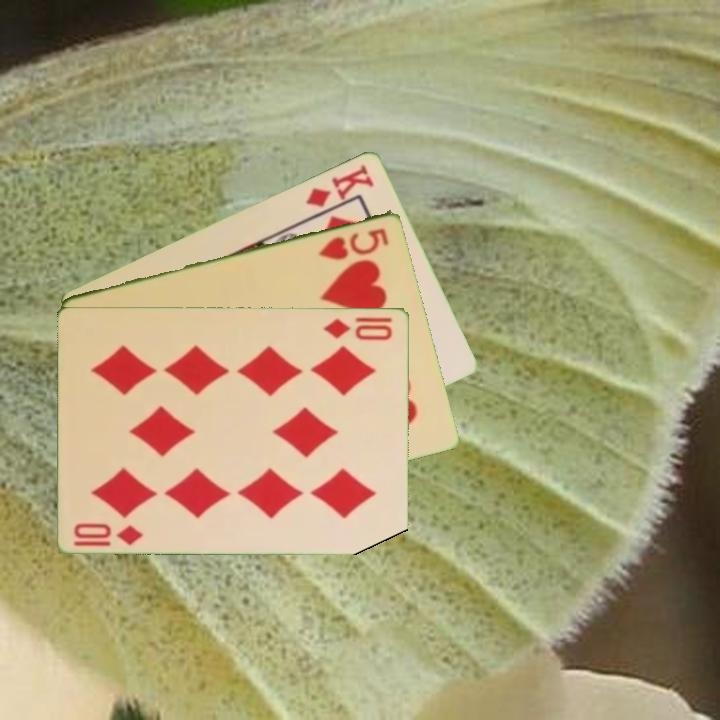10d: (71, 519, 146, 548), (320, 315, 396, 343)
5h: (315, 224, 392, 263)
Kd: (302, 160, 377, 210)
